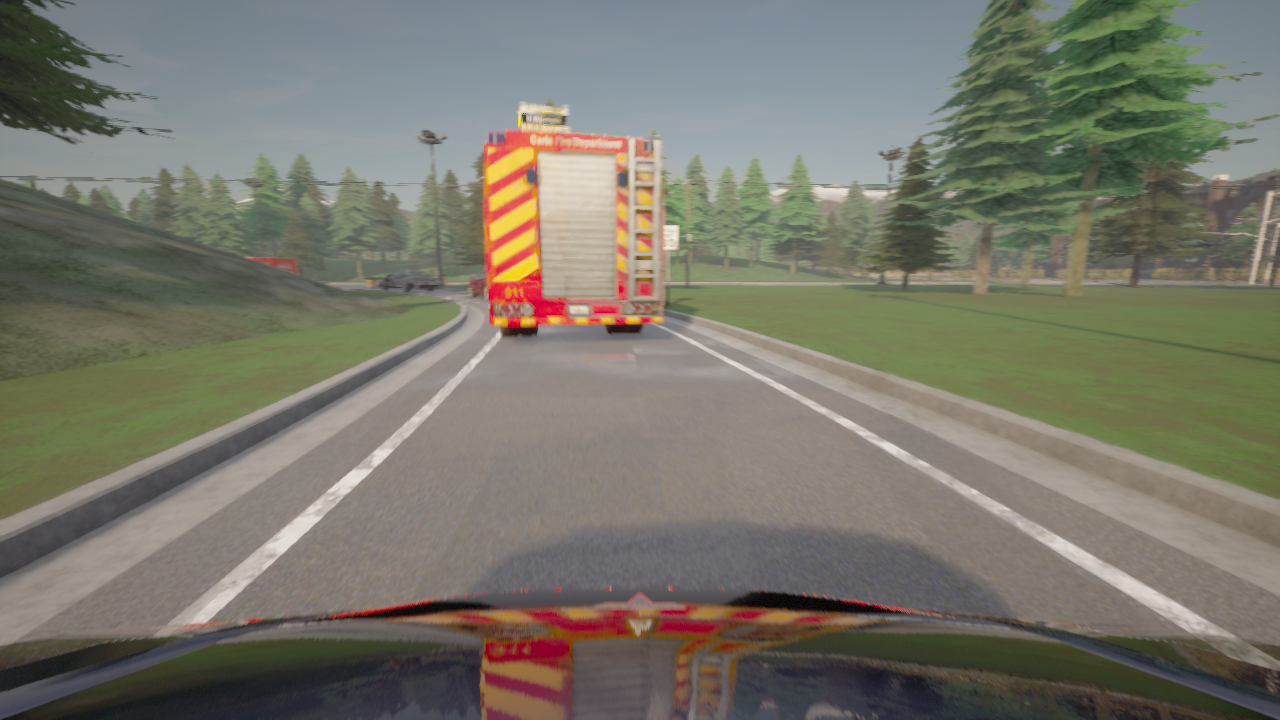cyclist: (0, 588, 1279, 719), (483, 103, 663, 336), (378, 270, 439, 292), (247, 258, 297, 274), (468, 268, 488, 301)
